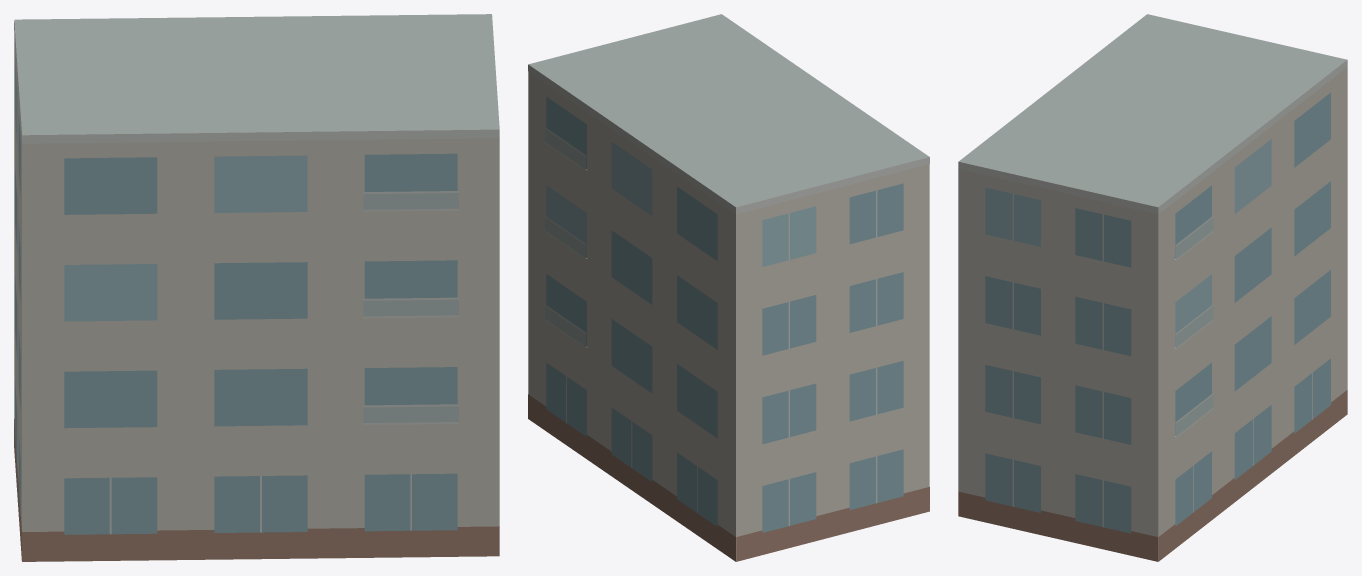
Rendered from residential-96d4e395-0e6c-4afb-be70-71574a70bf77.glb.
3 views of the same model, side by side, from view 1: azimuth 30°, elevation 25°; view 2: azimuth 150°, elevation 25°; view 3: azimuth 270°, elevation 25° (orthographic). The views are drawn at different scales.
Parts seen in each view (by area): view 1: residential-96d4e395-0e6c-4afb-be70-71574a70bf77.tmp; view 2: residential-96d4e395-0e6c-4afb-be70-71574a70bf77.tmp; view 3: residential-96d4e395-0e6c-4afb-be70-71574a70bf77.tmp.
Part boxes in pixels (bbox=[...]): residential-96d4e395-0e6c-4afb-be70-71574a70bf77.tmp: bbox=[14, 14, 499, 561]; residential-96d4e395-0e6c-4afb-be70-71574a70bf77.tmp: bbox=[528, 14, 929, 561]; residential-96d4e395-0e6c-4afb-be70-71574a70bf77.tmp: bbox=[958, 14, 1347, 561].
Size of the model in its own units: 14.27 by 12.2 by 12.14.
